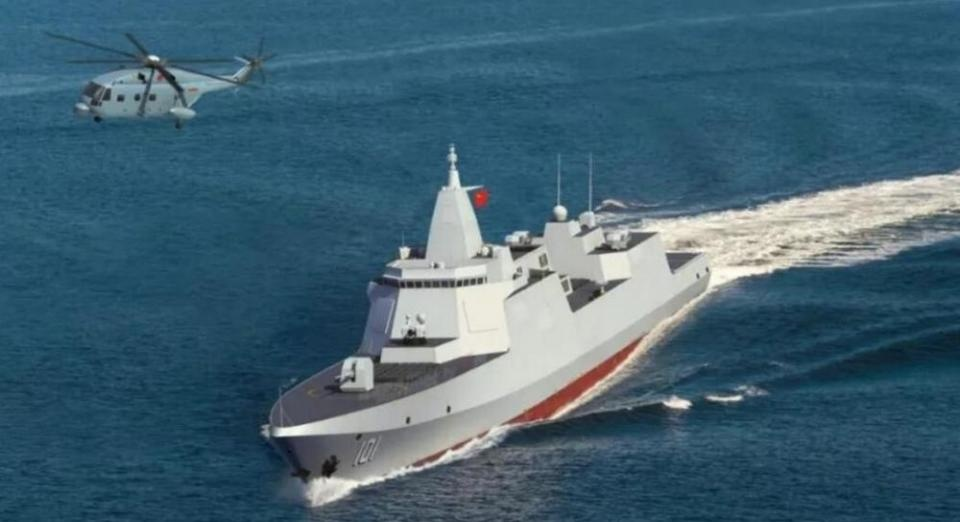airplane: (39, 19, 276, 130)
warship: (256, 141, 713, 498)
